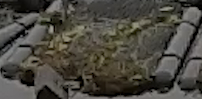bag: (1, 1, 200, 90)
